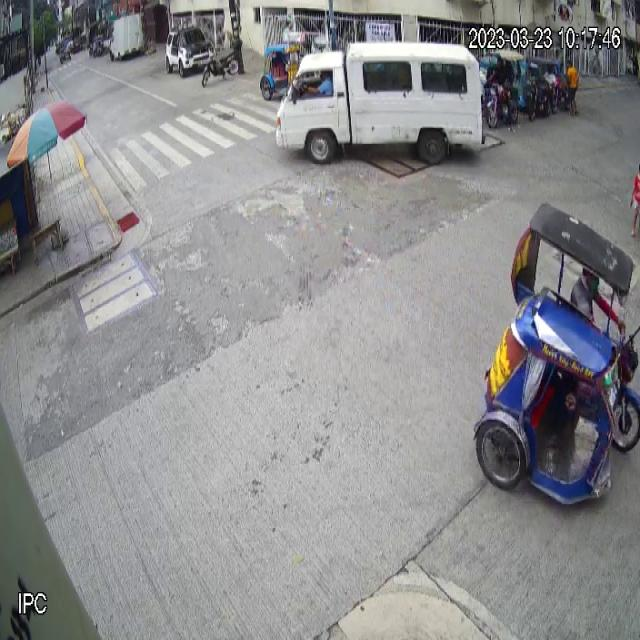Tricycle: (473, 198, 640, 507)
Van: (274, 42, 485, 171)
